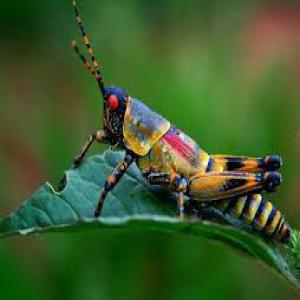locust: (87, 50, 300, 247)
